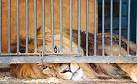lion: (18, 23, 136, 84)
